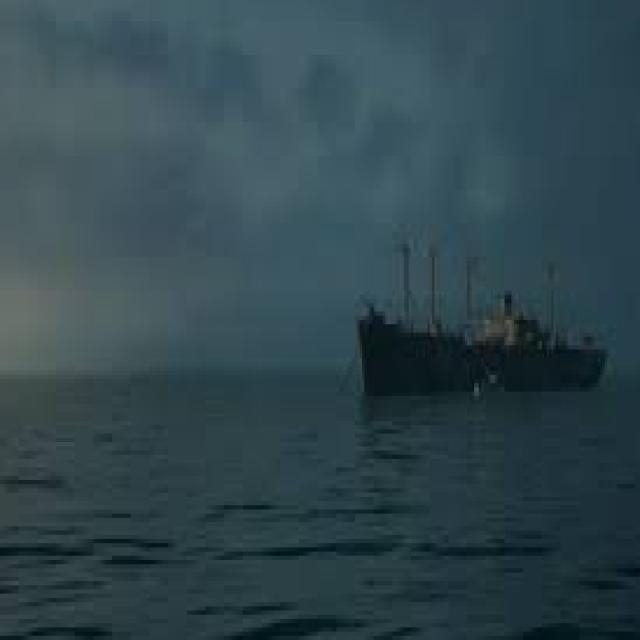cargoship: (348, 235, 610, 402)
